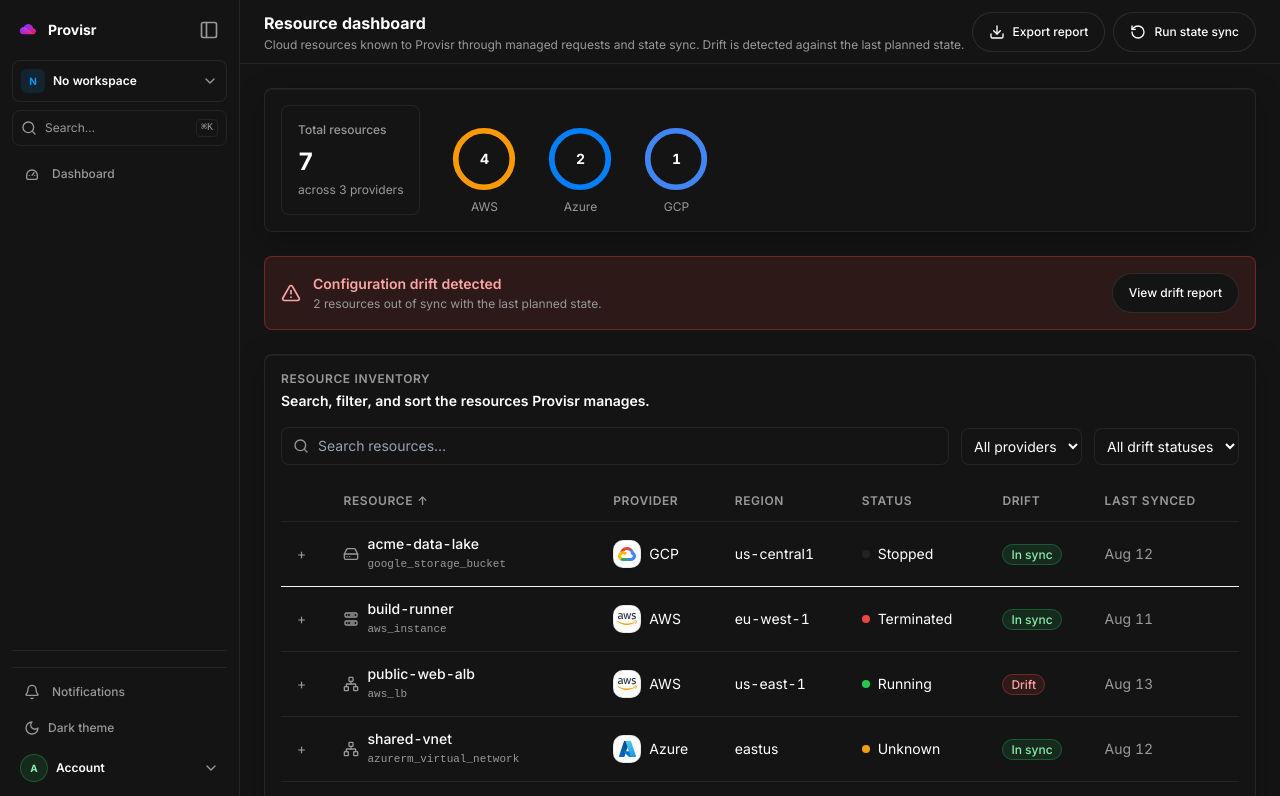
Scenario: ResourcesPage › handles run state sync action and displays feedback
Expected: the text "Resource inventory" is shown, [281,371,430,386]
Click the button "Run state sync" at (1185, 32), box [1113,12,1256,52]
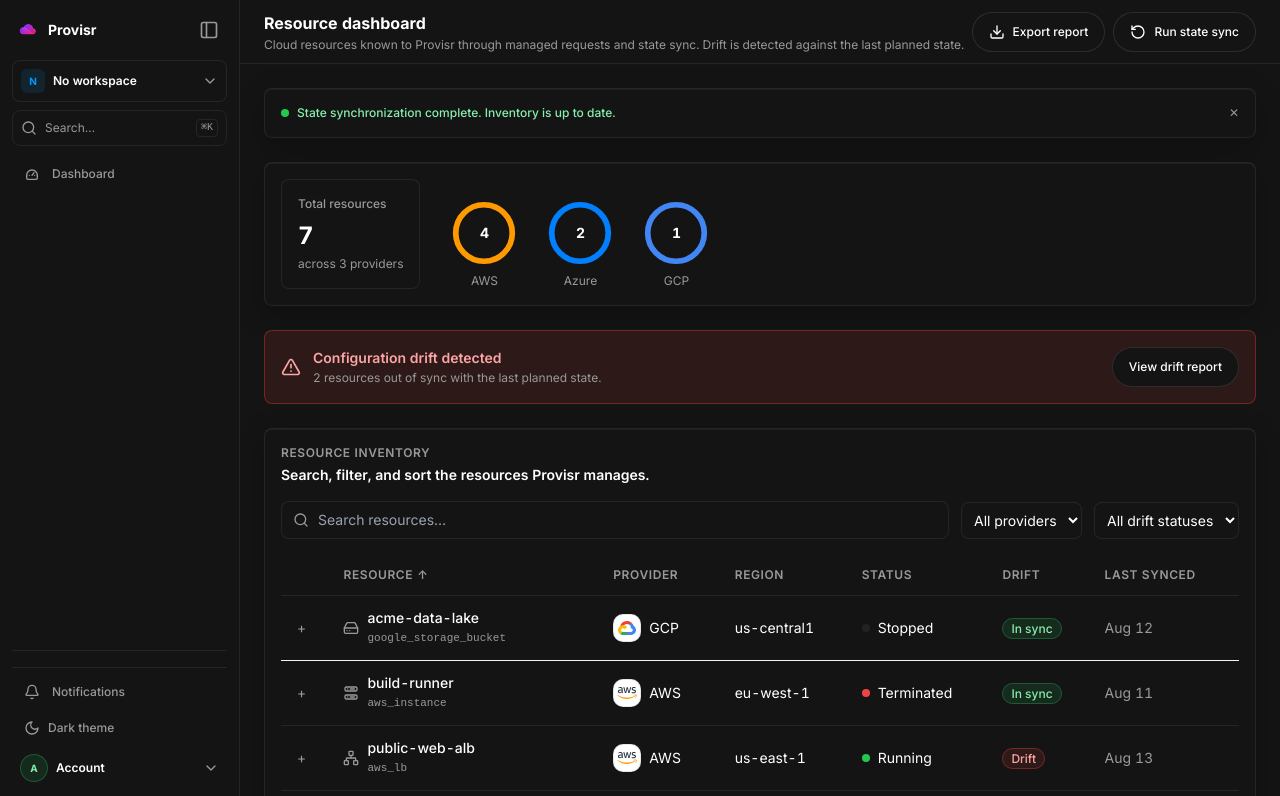
Expected: the text "State synchronization complete. Inventory is up to date." is shown, [297,105,616,121]
